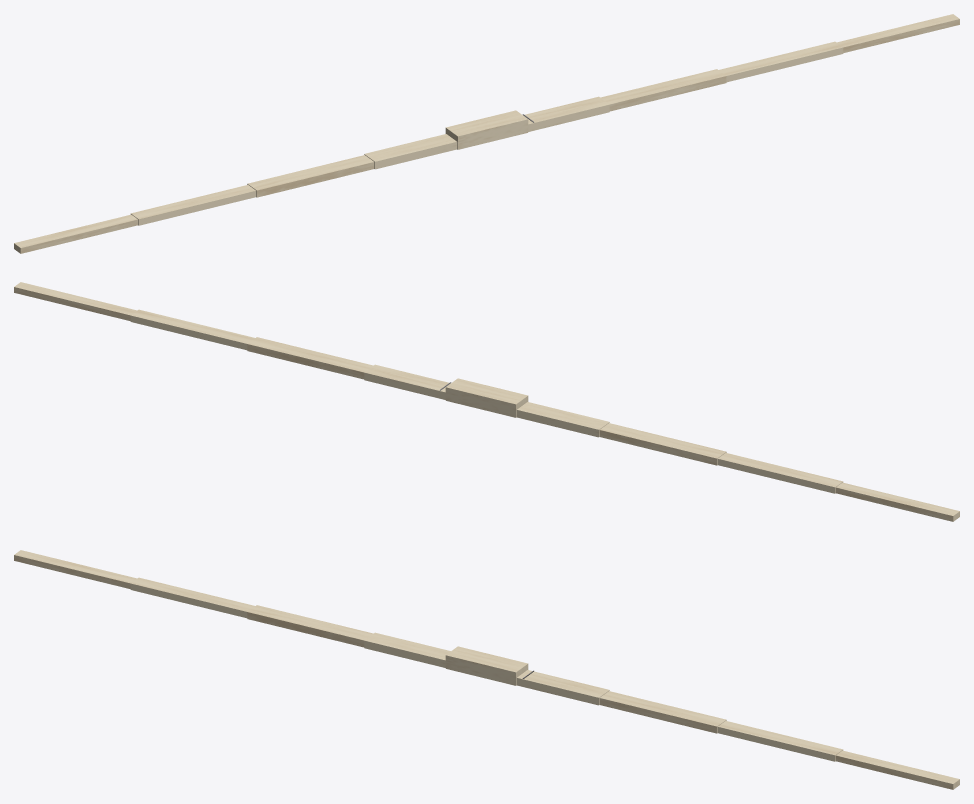
File: FL_BoardBowStave.fbx
The picture shows the model from 3 angles, top to bottom: view 1: azimuth 30°, elevation 25°; view 2: azimuth 150°, elevation 25°; view 3: azimuth 330°, elevation 25°; orthographic projection.
Parts seen in each view (by area): view 1: FL_BoardBowStave; view 2: FL_BoardBowStave; view 3: FL_BoardBowStave.
Boxes of the visible parts, box(x1,y1,x2,y2) form: FL_BoardBowStave: box(14, 14, 959, 253); FL_BoardBowStave: box(14, 282, 959, 521); FL_BoardBowStave: box(14, 550, 959, 789).
Size of the model in its own units: 0.1333 by 0.00183 by 0.003.
